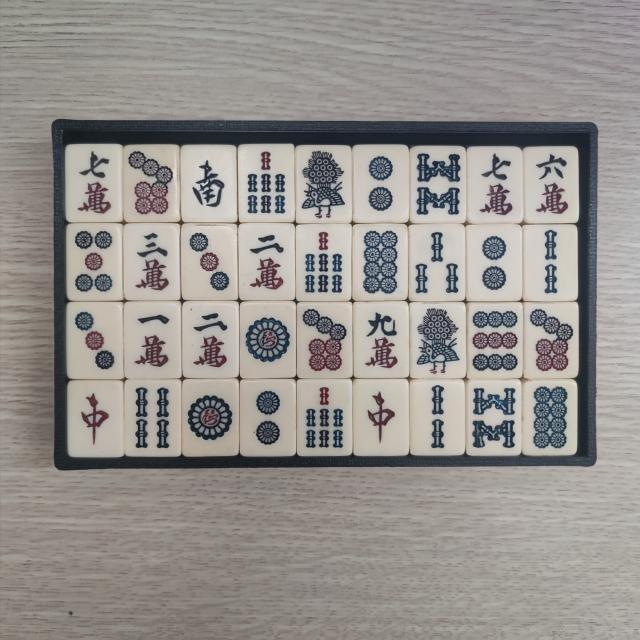hdr: (74, 387, 119, 453), (360, 382, 403, 450)
hws: (187, 150, 232, 218)
sb1: (300, 148, 348, 220), (416, 306, 464, 376)
sb2: (529, 228, 574, 298), (416, 382, 462, 450)
sb3: (414, 230, 462, 298)
sb4: (130, 384, 174, 452)
sb7: (244, 148, 291, 217), (300, 230, 347, 298), (301, 382, 348, 450)
sb8: (416, 149, 464, 219), (472, 386, 518, 453)
sc1: (130, 308, 176, 372)
sc2: (246, 230, 292, 296), (188, 308, 234, 374)
sc3: (128, 228, 174, 296)
sc6: (530, 152, 574, 220)
sc7: (472, 152, 518, 220), (73, 150, 119, 218)
sc9: (359, 306, 405, 372)
sd1: (187, 385, 236, 452), (245, 309, 294, 376)
sd2: (358, 150, 404, 219), (472, 230, 516, 297), (246, 386, 290, 452)
sd3: (70, 308, 117, 376), (187, 232, 234, 298)
sd5: (70, 227, 116, 295)
sd7: (128, 149, 176, 218), (301, 308, 348, 376), (530, 308, 576, 376)
sd8: (358, 230, 402, 298), (530, 386, 572, 453)
sd9: (470, 307, 520, 375)
